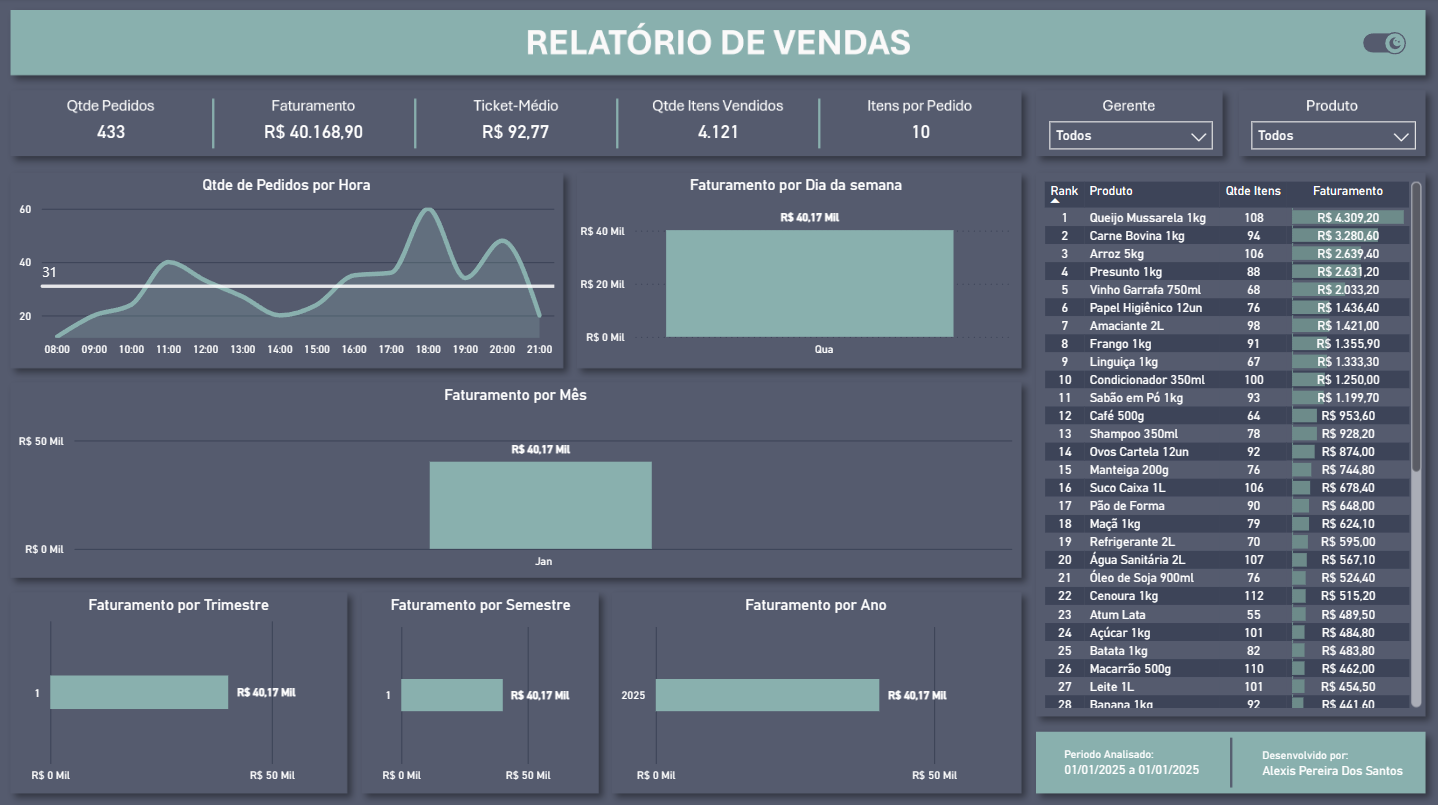

The dashboard page shown, as its layout file describes it:
{"tool":"powerbi","page":{"name":"RELATORIO_BI_Dark","canvas":[1280,720],"ordinal":1},"visuals":[{"type":"columnChart","title":"Faturamento por Dia da semana","fields":{"Category":["gold dim_calendario.dia_nome"],"Y":["gold fato_vendas.Faturamento"]},"box":[511.8,158.2,393.6,167.3],"z":0},{"type":"cardVisual","fields":{"Data":["gold fato_vendas.Faturamento"]},"box":[193.8,95,173,44],"z":1000},{"type":"cardVisual","fields":{"Data":["gold fato_vendas.QTD_PEDIDOS"]},"box":[14.7,95,172.7,44],"z":2000},{"type":"cardVisual","fields":{"Data":["gold fato_vendas.QTD_ITENS"]},"box":[553.2,95,173,44],"z":3000},{"type":"cardVisual","fields":{"Data":["gold fato_vendas.ITENS_P_PEDIDO"]},"box":[732.7,95,173.3,44],"z":4000},{"type":"cardVisual","fields":{"Data":["gold fato_vendas.TICKET_MÉDIO"]},"box":[373.3,95,173.3,44],"z":5000},{"type":"columnChart","title":"Faturamento por Mês","fields":{"Category":["gold dim_calendario.mes_abreviado"],"Y":["gold fato_vendas.Faturamento"]},"box":[14.4,343.8,891.2,169.4],"z":6000},{"type":"clusteredBarChart","title":"Faturamento por Ano","fields":{"Category":["gold dim_calendario.ano"],"Y":["gold fato_vendas.Faturamento"]},"box":[547.5,530.6,358.1,172.5],"z":7000},{"type":"clusteredBarChart","title":"Faturamento por Semestre","fields":{"Category":["gold dim_calendario.semestre"],"Y":["gold fato_vendas.Faturamento"]},"box":[325,530.6,206.9,172.5],"z":8000},{"type":"slicer","fields":{"Values":["gold dim_lojas.gerente"]},"box":[922.9,99.2,165.3,39.5],"z":9000},{"type":"slicer","fields":{"Values":["gold dim_produtos.produto"]},"box":[1101.8,99.2,165.8,39.5],"z":10000},{"type":"clusteredBarChart","title":"Faturamento por Trimestre","fields":{"Category":["gold dim_calendario.trimestre"],"Y":["gold fato_vendas.Faturamento"]},"box":[14.4,530.6,293.8,172.5],"z":11000},{"type":"image","box":[1210,30,40,20],"z":12000},{"type":"tableEx","fields":{"Values":["gold fato_vendas.RANK_PROD","gold dim_produtos.produto","gold fato_vendas.QTD_ITENS","gold fato_vendas.Faturamento"]},"box":[922.7,158.2,344.5,476.4],"z":13000},{"type":"cardVisual","fields":{"Data":["gold dim_calendario.data_inicio"]},"box":[928.7,657.2,156.7,41.4],"z":14000},{"type":"cardVisual","fields":{"Data":["gold dim_calendario.Desenvolvido"]},"box":[1105,658,161,41],"z":15000},{"type":"lineChart","title":"Qtde de Pedidos por Hora","fields":{"Category":["gold fato_vendas.inicio_hora"],"Y":["gold fato_vendas.QTD_PEDIDOS"]},"box":[14.4,158.1,485,167.5],"z":16000}]}

Visuals, with their boxes in screenshot pixels (x1, y1, x2, y2), scaled from the page's 1280x720 canvas onto the 1438x805 screenshot:
"Faturamento por Dia da semana" columnChart: (x1=575, y1=177, x2=1017, y2=364)
cardVisual - gold fato_vendas.Faturamento: (x1=218, y1=106, x2=412, y2=155)
cardVisual - gold fato_vendas.QTD_PEDIDOS: (x1=17, y1=106, x2=211, y2=155)
cardVisual - gold fato_vendas.QTD_ITENS: (x1=621, y1=106, x2=816, y2=155)
cardVisual - gold fato_vendas.ITENS_P_PEDIDO: (x1=823, y1=106, x2=1018, y2=155)
cardVisual - gold fato_vendas.TICKET_MÉDIO: (x1=419, y1=106, x2=614, y2=155)
"Faturamento por Mês" columnChart: (x1=16, y1=384, x2=1017, y2=574)
"Faturamento por Ano" clusteredBarChart: (x1=615, y1=593, x2=1017, y2=786)
"Faturamento por Semestre" clusteredBarChart: (x1=365, y1=593, x2=598, y2=786)
slicer - gold dim_lojas.gerente: (x1=1037, y1=111, x2=1223, y2=155)
slicer - gold dim_produtos.produto: (x1=1238, y1=111, x2=1424, y2=155)
"Faturamento por Trimestre" clusteredBarChart: (x1=16, y1=593, x2=346, y2=786)
image: (x1=1359, y1=34, x2=1404, y2=56)
tableEx - gold fato_vendas.RANK_PROD x gold dim_produtos.produto: (x1=1037, y1=177, x2=1424, y2=710)
cardVisual - gold dim_calendario.data_inicio: (x1=1043, y1=735, x2=1219, y2=781)
cardVisual - gold dim_calendario.Desenvolvido: (x1=1241, y1=736, x2=1422, y2=782)
"Qtde de Pedidos por Hora" lineChart: (x1=16, y1=177, x2=561, y2=364)
